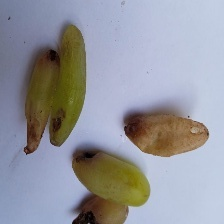grapes: (10, 25, 201, 190)
